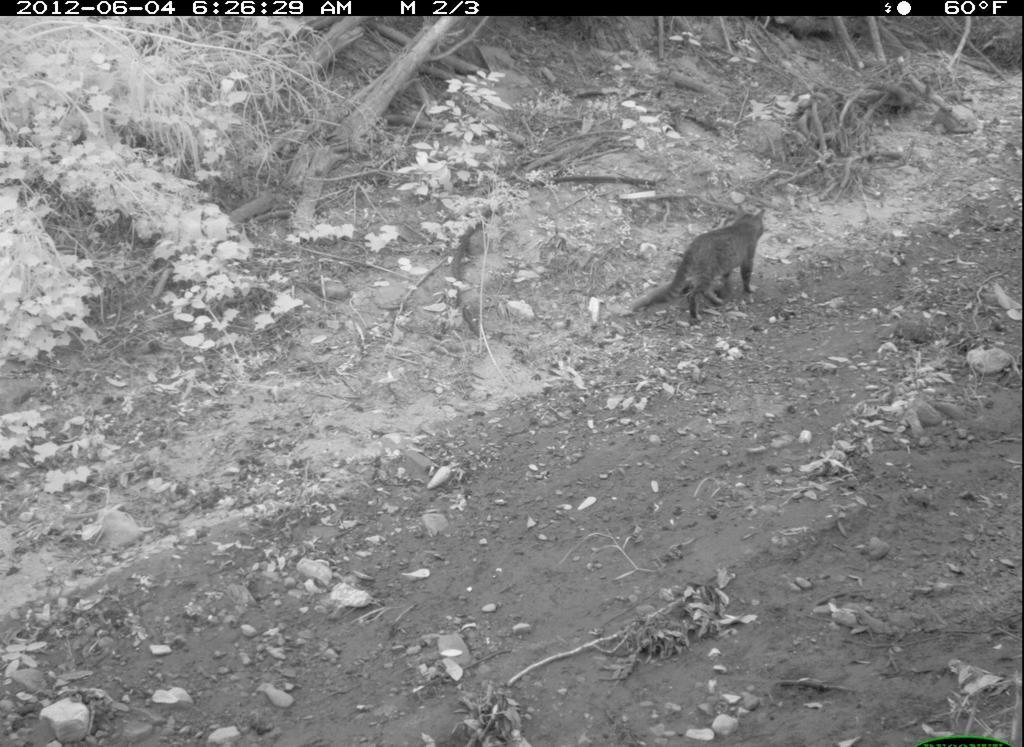cat: (633, 208, 775, 331)
